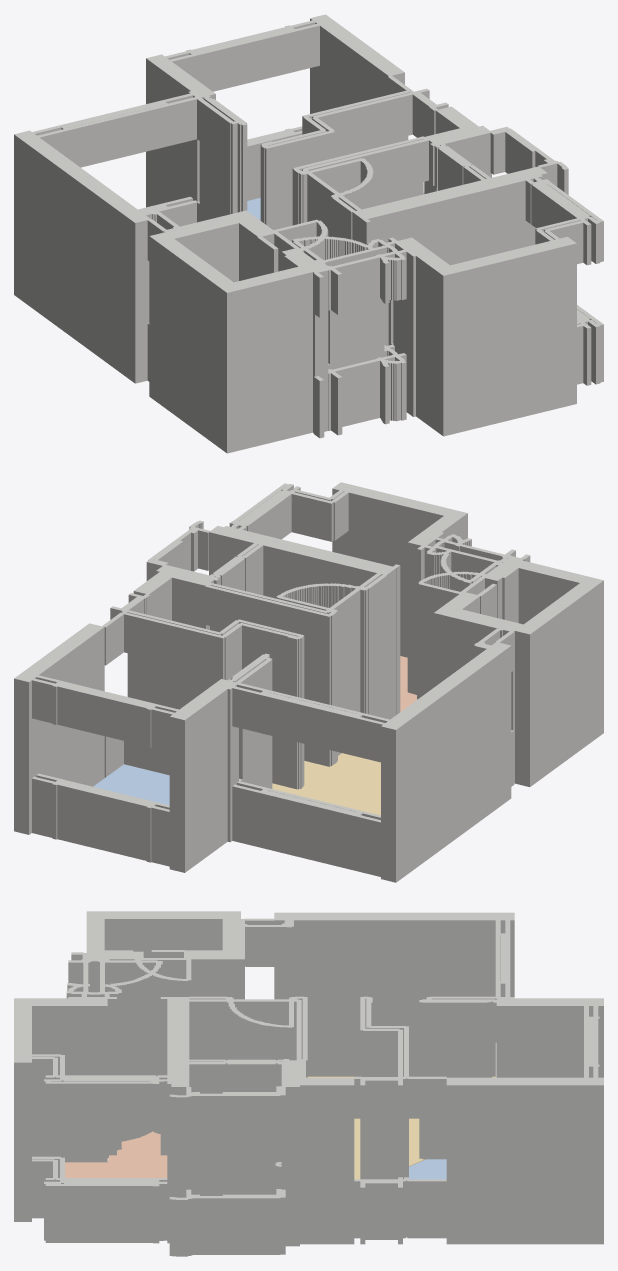
The picture shows the model from 3 angles, top to bottom: view 1: azimuth 30°, elevation 25°; view 2: azimuth 150°, elevation 25°; view 3: azimuth 270°, elevation 25°; orthographic projection. The views are drawn at different scales.
Parts seen in each view (by area): view 1: walls; view 2: walls, room:living:1, room:bedroom:0; view 3: walls, room:kitchen:5, room:living:1, room:bedroom:0.
Boxes of the visible parts, box(x1,y1,x2,y2) form: walls: box(14, 14, 603, 453); walls: box(14, 482, 603, 882); room:living:1: box(272, 753, 380, 815); room:bedroom:0: box(93, 764, 169, 805); walls: box(14, 911, 603, 1256); room:kitchen:5: box(65, 1131, 167, 1178); room:living:1: box(307, 1076, 495, 1179); room:bedroom:0: box(409, 1159, 446, 1179).
Size of the model in its own units: 7.02 by 2.8 by 9.4.
